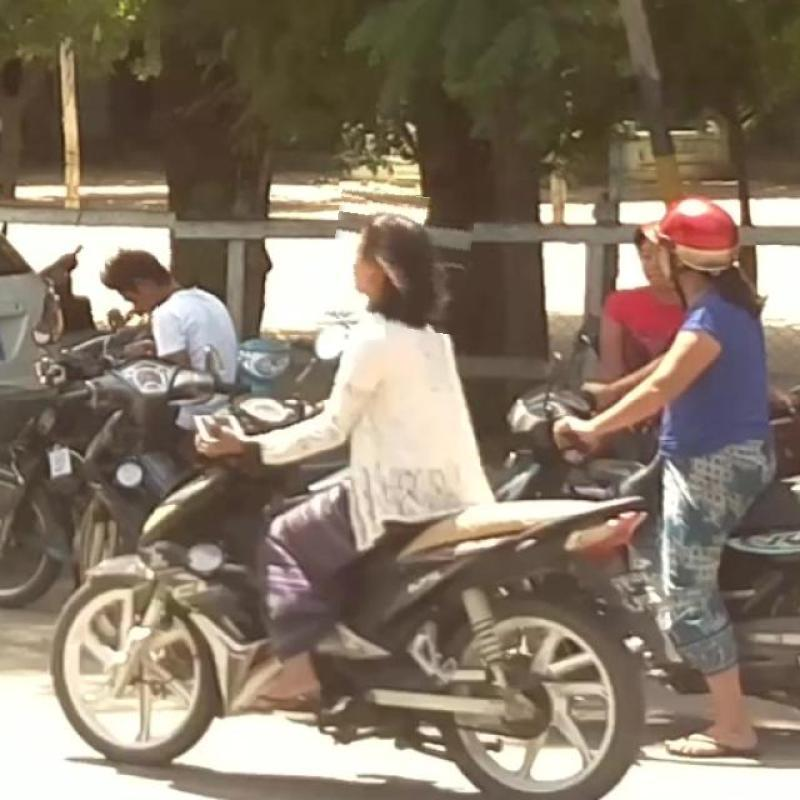nohelmet: (328, 190, 473, 331), (64, 247, 194, 317)
